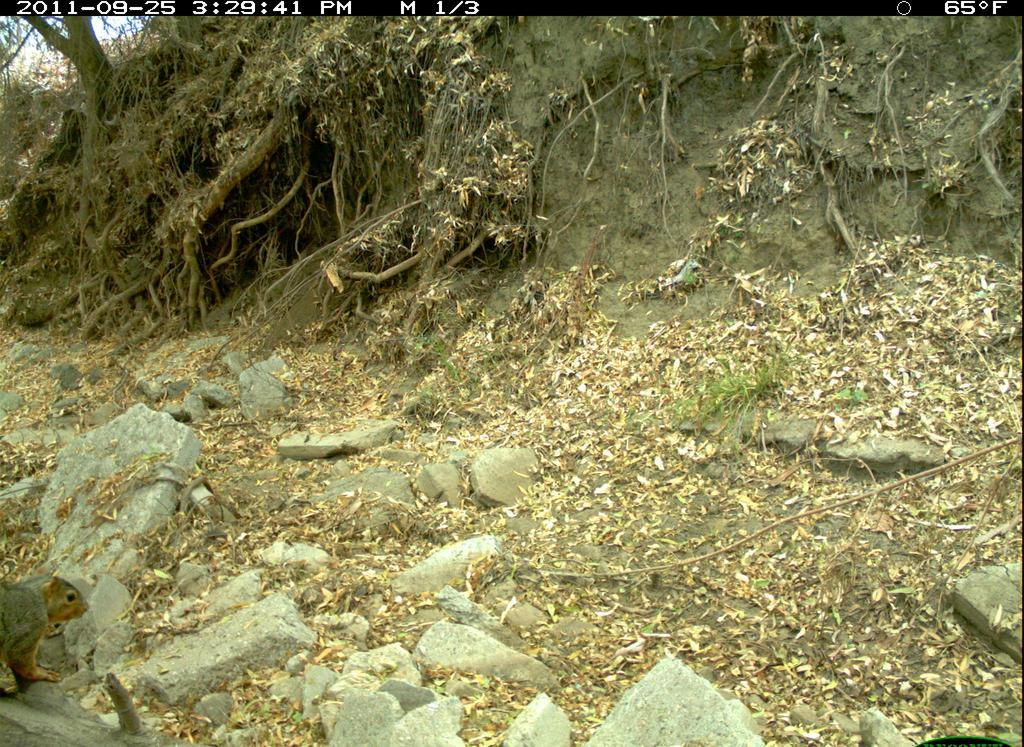squirrel: (2, 561, 99, 699)
